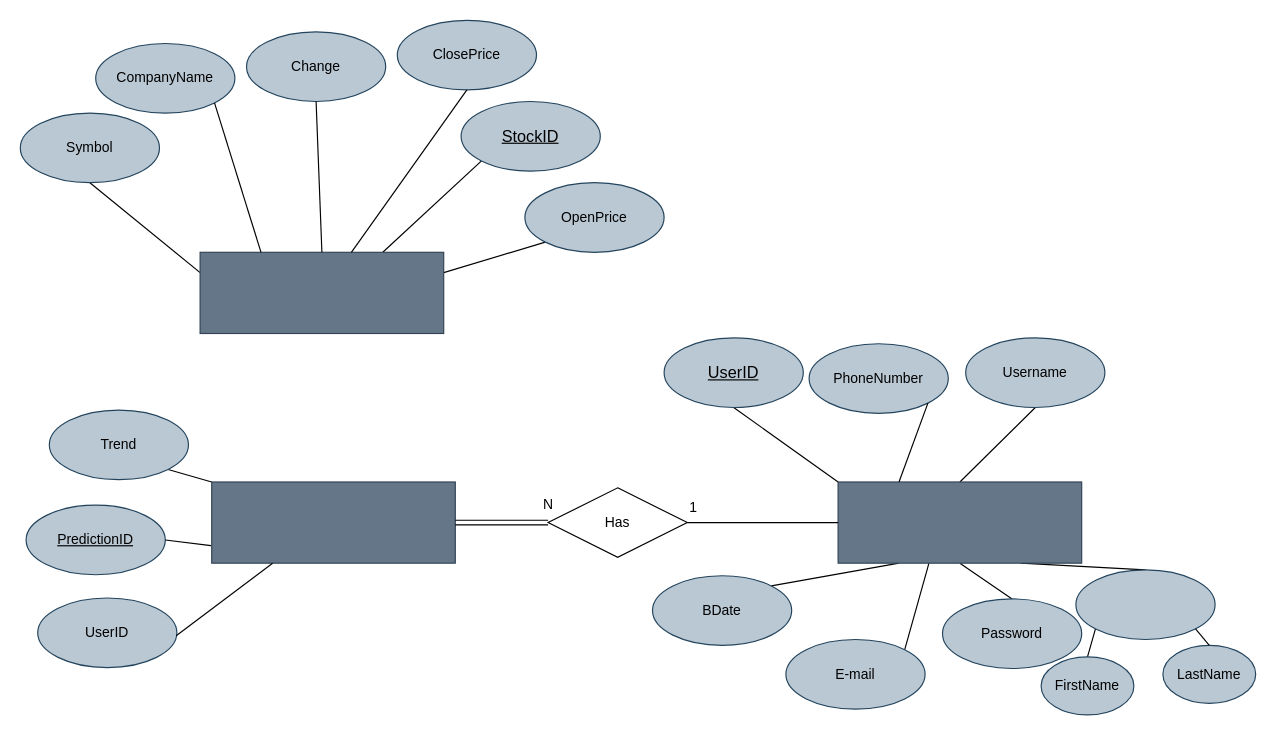
This 1276x735 diagram has some shape labels left out. Each missing label, with the centre of its shape:
"Name" goes at point 1145,604.
"Prediction" goes at point 333,522.
"Stock" goes at point 321,292.
"User" goes at point 959,522.
